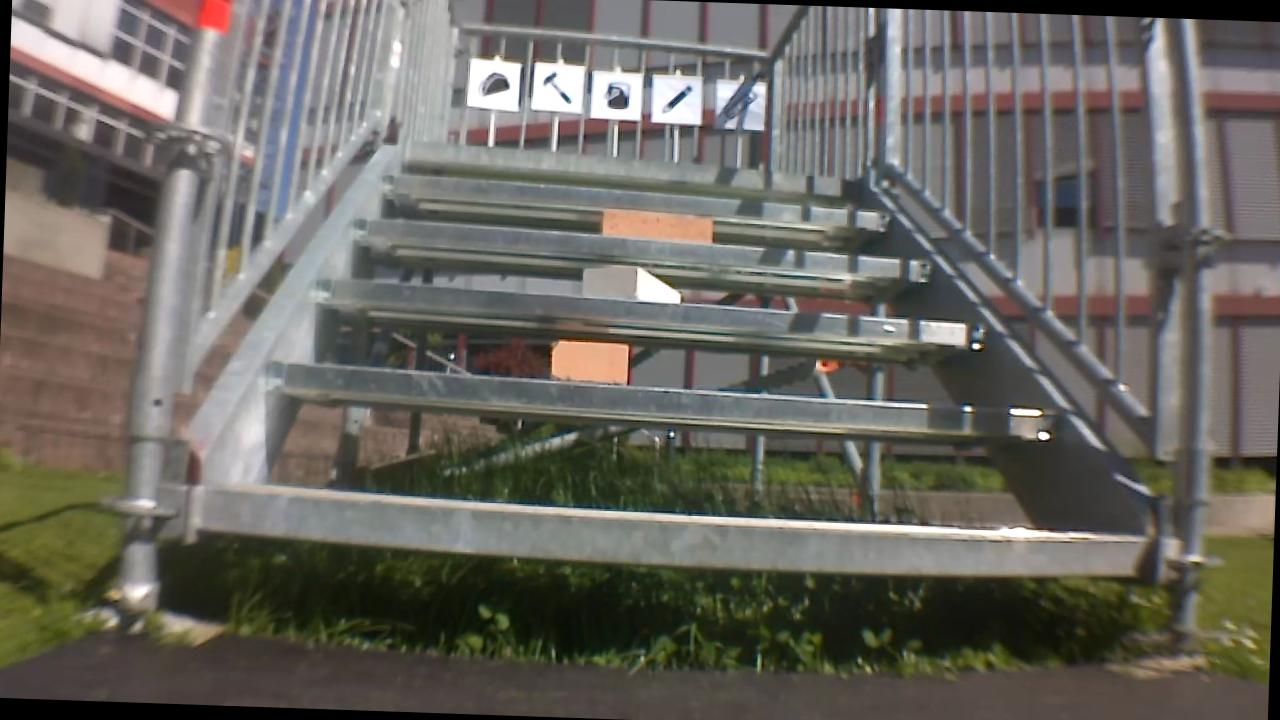brick: (543, 338, 635, 386), (575, 260, 684, 300), (595, 208, 718, 238)
edge: (185, 493, 1165, 570), (268, 362, 1063, 429), (306, 281, 997, 334), (375, 174, 887, 229), (342, 223, 923, 270), (396, 137, 870, 191)
steps: (163, 139, 1161, 568)
